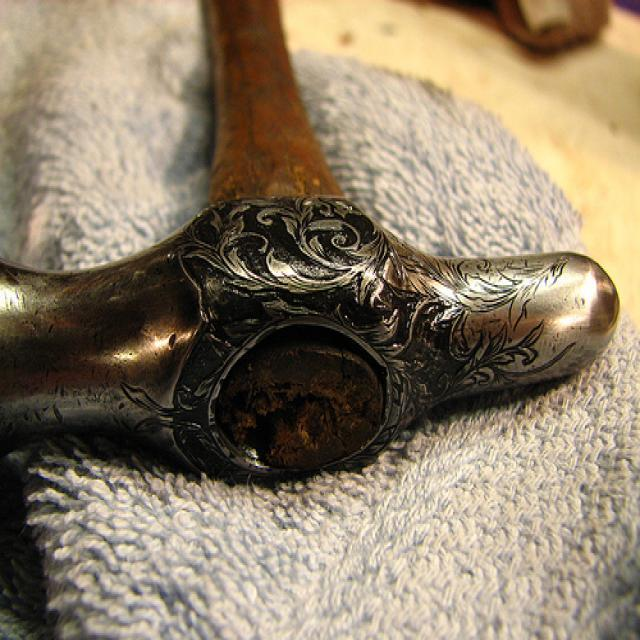hammer: (0, 0, 622, 517)
